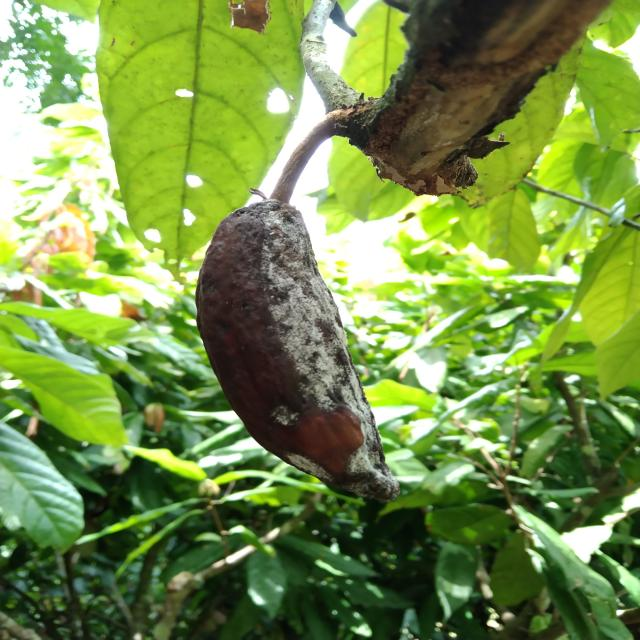Monilia: (184, 190, 399, 499)
